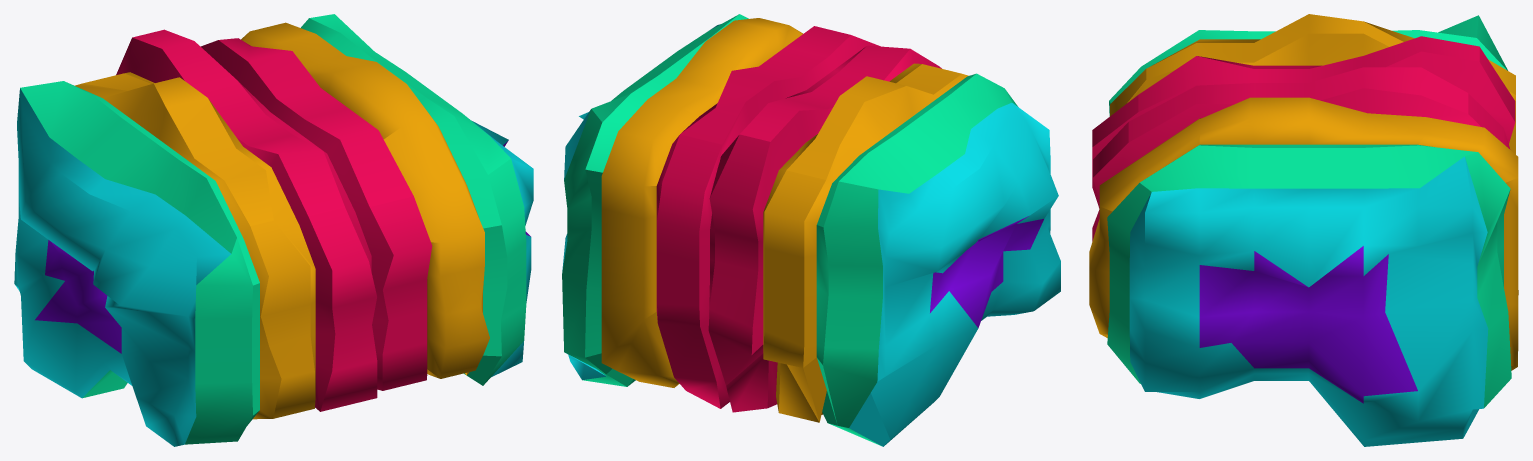
Rendered from clown_wig.fbx.
The picture shows the model from 3 angles, left to right: view 1: azimuth 30°, elevation 25°; view 2: azimuth 150°, elevation 25°; view 3: azimuth 270°, elevation 25°; orthographic projection. The views are drawn at different scales.
Parts seen in each view (by area): view 1: pCube8; view 2: pCube8; view 3: pCube8.
Boxes of the visible parts, box(x1,y1,x2,y2) form: pCube8: box(14, 14, 533, 446); pCube8: box(562, 14, 1060, 446); pCube8: box(1089, 14, 1518, 446).
Bounding box in the file's own units: 26.84 × 18.66 × 23.1.
